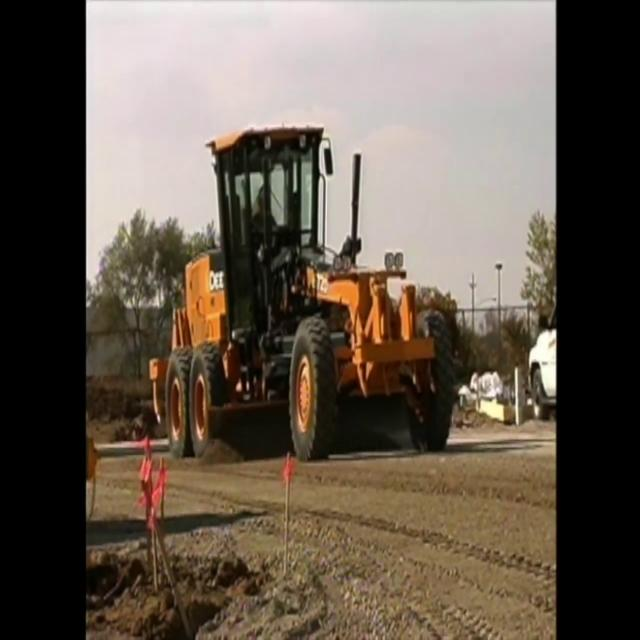buldozerpayloadergrader: (145, 119, 459, 468)
